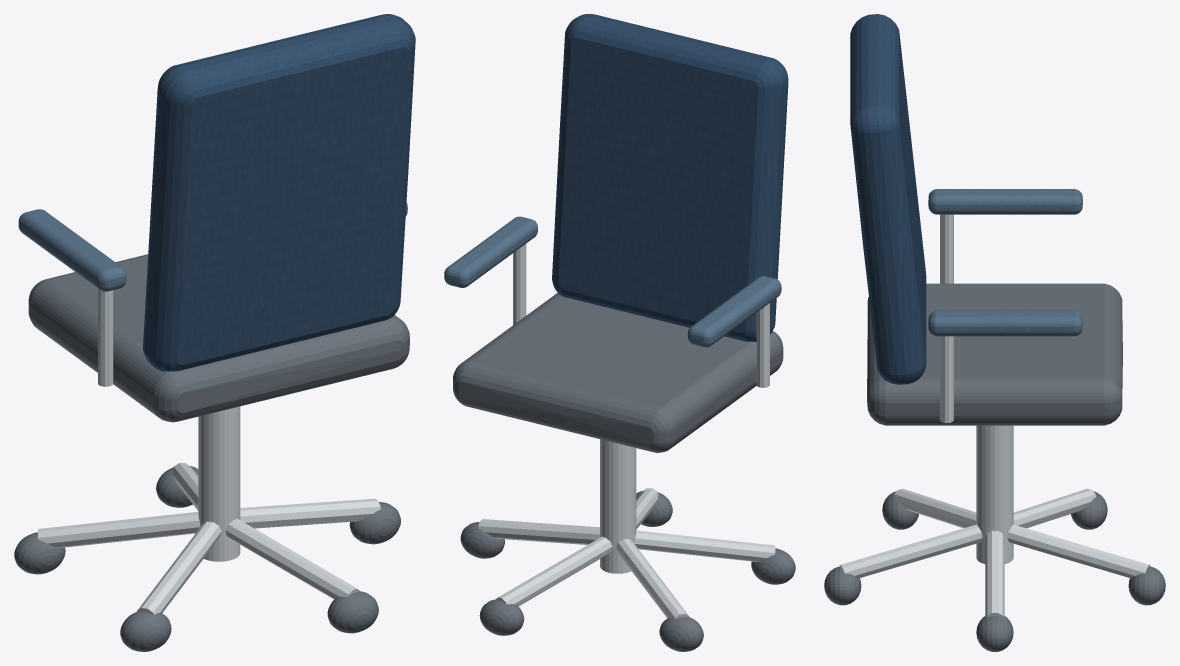
3 renders of one model, left to right at view 1: azimuth 30°, elevation 25°; view 2: azimuth 150°, elevation 25°; view 3: azimuth 270°, elevation 25°, orthographic. The views are drawn at different scales.
Visible parts, largest first — view 1: backrest_3, seat_cushion_2, chair_piston_1, armrest_5, rod_14, rod_10, rod_8, rod_12, caster_11, caster_13, rod_4, caster_15 (+3 smaller); view 2: backrest_3, seat_cushion_2, chair_piston_1, armrest_5, armrest_7, rod_12, rod_16, rod_8, rod_14, caster_15, caster_17, rod_4 (+5 smaller); view 3: seat_cushion_2, backrest_3, chair_piston_1, armrest_7, armrest_5, rod_10, rod_16, rod_8, rod_12, rod_14, rod_6, caster_9 (+5 smaller).
Part boxes in pixels (left/top/right/bottom): backrest_3: left=143, top=14, right=415, bottom=371; seat_cushion_2: left=28, top=254, right=409, bottom=422; chair_piston_1: left=198, top=406, right=240, bottom=561; armrest_5: left=18, top=209, right=126, bottom=291; rod_14: left=38, top=511, right=200, bottom=547; rod_10: left=225, top=519, right=360, bottom=599; rod_8: left=240, top=498, right=380, bottom=528; rod_12: left=137, top=521, right=221, bottom=615; caster_11: left=327, top=591, right=378, bottom=633; caster_13: left=120, top=611, right=171, bottom=651; rod_4: left=98, top=289, right=113, bottom=386; caster_15: left=14, top=532, right=65, bottom=574; backrest_3: left=552, top=14, right=788, bottom=341; seat_cushion_2: left=453, top=293, right=783, bottom=452; chair_piston_1: left=600, top=439, right=636, bottom=573; armrest_5: left=687, top=276, right=781, bottom=347; armrest_7: left=444, top=216, right=537, bottom=287; rod_12: left=634, top=530, right=775, bottom=561; rod_16: left=496, top=536, right=612, bottom=606; rod_8: left=478, top=519, right=599, bottom=544; rod_14: left=616, top=538, right=689, bottom=620; caster_15: left=659, top=617, right=703, bottom=651; caster_17: left=479, top=599, right=524, bottom=635; rod_4: left=756, top=303, right=769, bottom=387; seat_cushion_2: left=867, top=283, right=1122, bottom=425; backrest_3: left=850, top=14, right=926, bottom=384; chair_piston_1: left=976, top=425, right=1013, bottom=563; armrest_7: left=928, top=310, right=1082, bottom=336; armrest_5: left=928, top=189, right=1082, bottom=214; rod_10: left=839, top=524, right=982, bottom=578; rod_16: left=1007, top=524, right=1150, bottom=578; rod_8: left=985, top=530, right=1004, bottom=617; rod_12: left=894, top=488, right=976, bottom=528; rod_14: left=1013, top=488, right=1095, bottom=528; rod_6: left=940, top=336, right=953, bottom=422; caster_9: left=976, top=616, right=1013, bottom=651.
Bounding box in the file's own units: 0.6419 × 1.08 × 0.6406.
Materials: 4 (2 with a texture image).
